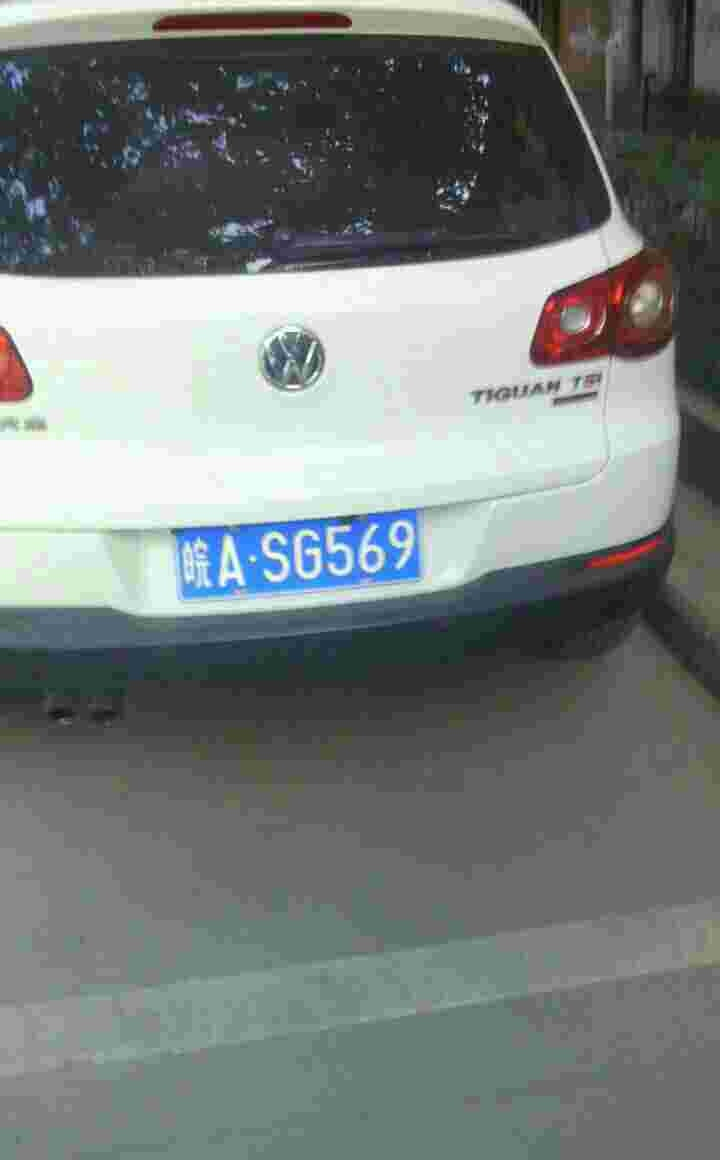license_plate: (177, 511, 426, 603)
